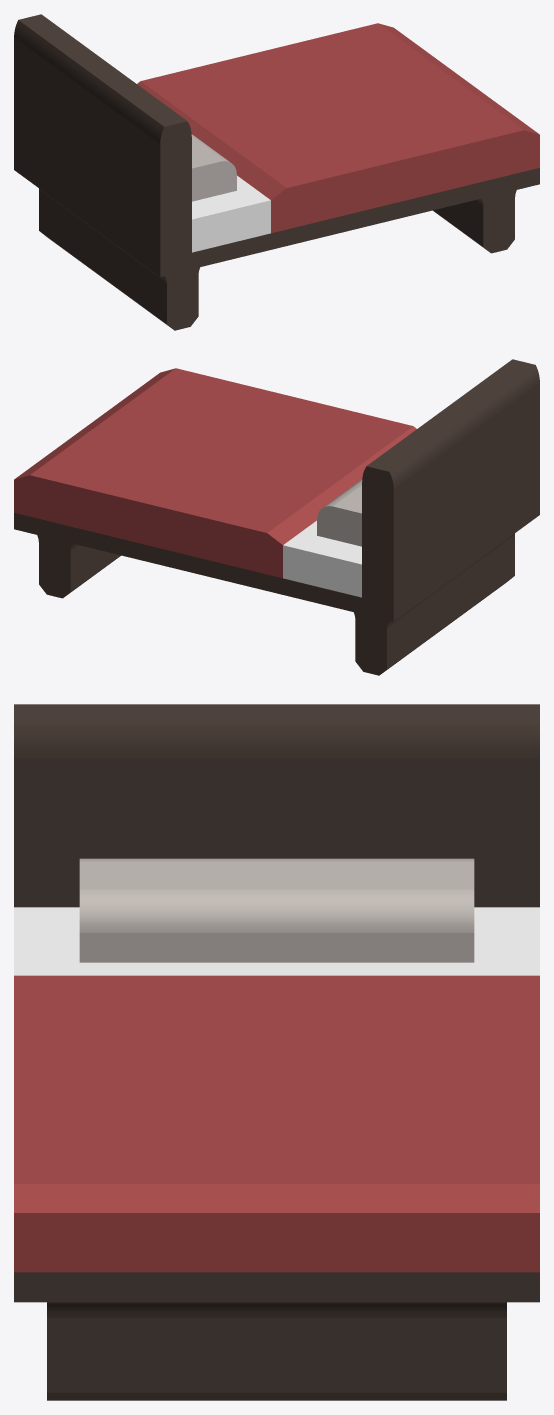
File: bed.glb
3 views of the same model, one above another, from view 1: azimuth 30°, elevation 25°; view 2: azimuth 150°, elevation 25°; view 3: azimuth 270°, elevation 25° (orthographic). The views are drawn at different scales.
Parts seen in each view (by area): view 1: generated(Clone); view 2: generated(Clone); view 3: generated(Clone).
Boxes of the visible parts, x1,y1,x2,y2 form: generated(Clone): (14,14,539,330); generated(Clone): (14,359,539,675); generated(Clone): (14,704,539,1400).
Size of the model in its own units: 24 by 13 by 16.
Materials: 1 (1 with a texture image).
